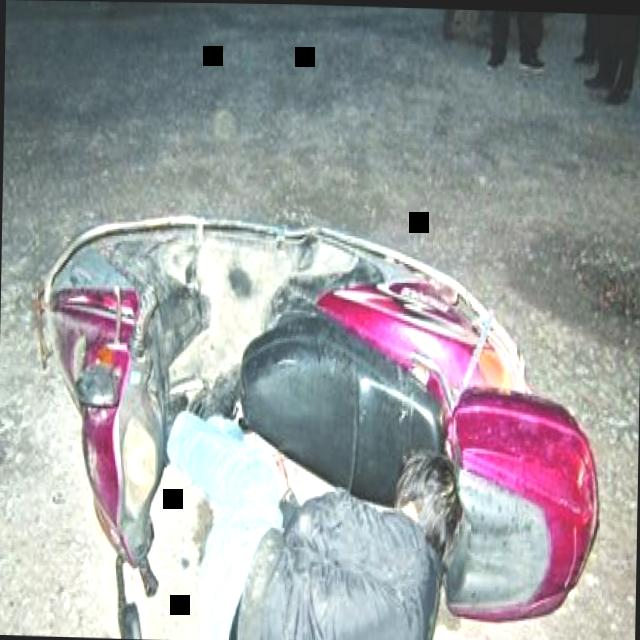Fall-Detected: (152, 361, 465, 640)
